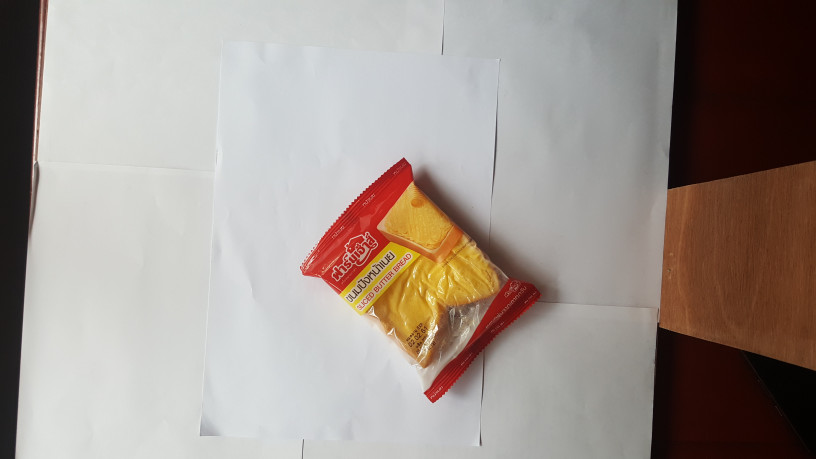farmhouse-bread-butter: (291, 154, 550, 409)
